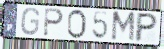5: (91, 10, 109, 41)
G: (20, 7, 41, 37)
M: (110, 11, 137, 44)
O: (66, 9, 87, 40)
P: (133, 11, 159, 43), (42, 7, 65, 38)
